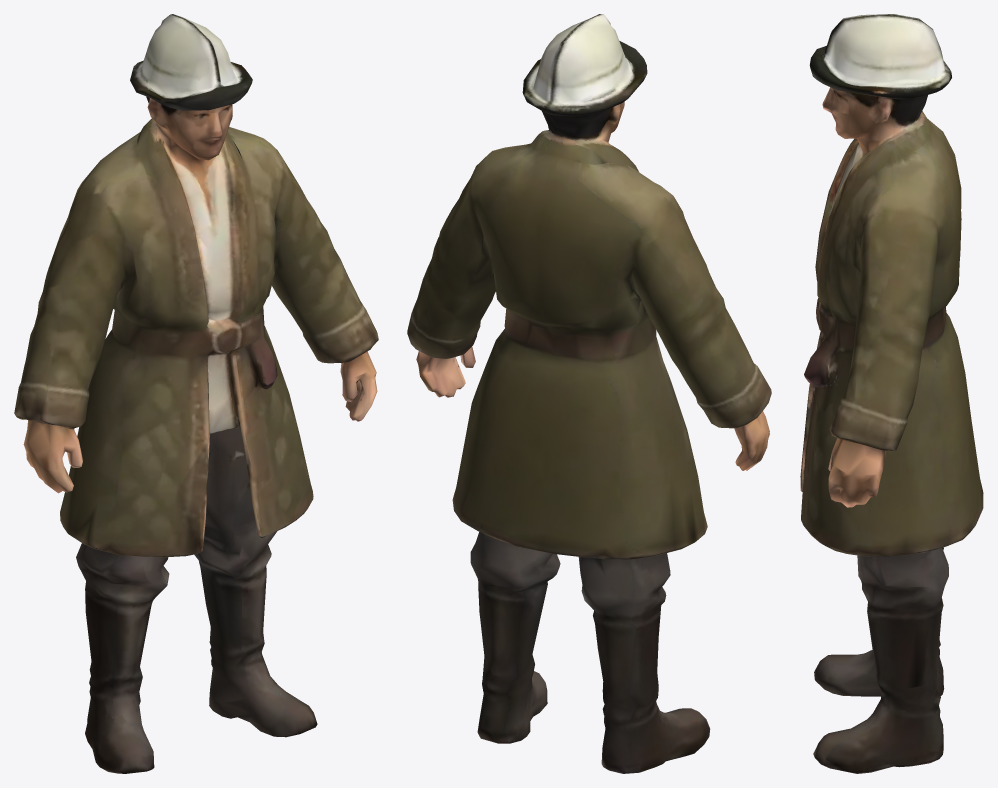
Rendered from herder-erlan.gen.glb.
3 views of the same model, side by side, from view 1: azimuth 30°, elevation 25°; view 2: azimuth 150°, elevation 25°; view 3: azimuth 270°, elevation 25° (orthographic).
Parts seen in each view (by area): view 1: herder-erlan.raw; view 2: herder-erlan.raw; view 3: herder-erlan.raw.
Part boxes in pixels (box(x1,y1,x2,y2)): herder-erlan.raw: box(14, 14, 378, 773); herder-erlan.raw: box(407, 14, 771, 773); herder-erlan.raw: box(800, 14, 983, 773).
Size of the model in its own units: 0.9566 by 1.85 by 0.4318.
Materials: 1 (1 with a texture image).
